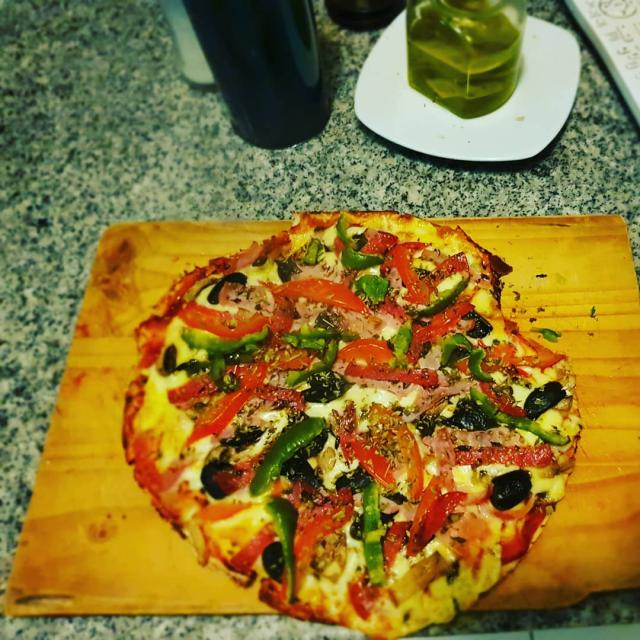black_olives: (490, 467, 531, 513), (282, 450, 326, 492), (198, 458, 238, 498), (526, 380, 566, 418), (305, 376, 349, 405), (263, 540, 294, 580), (449, 396, 489, 426), (414, 408, 451, 438), (206, 267, 242, 297), (465, 300, 494, 334), (278, 256, 298, 283)
peppers: (246, 411, 329, 494), (467, 383, 571, 443), (175, 368, 248, 442), (264, 496, 313, 592), (276, 266, 366, 315), (179, 308, 279, 342), (362, 478, 395, 577), (411, 481, 461, 546), (333, 210, 382, 269), (347, 359, 440, 390), (341, 424, 394, 476), (452, 439, 553, 466), (284, 326, 336, 375), (386, 240, 428, 300), (440, 332, 492, 372), (495, 514, 528, 554), (353, 270, 388, 302), (424, 285, 462, 313)
pizza: (120, 212, 582, 640)
